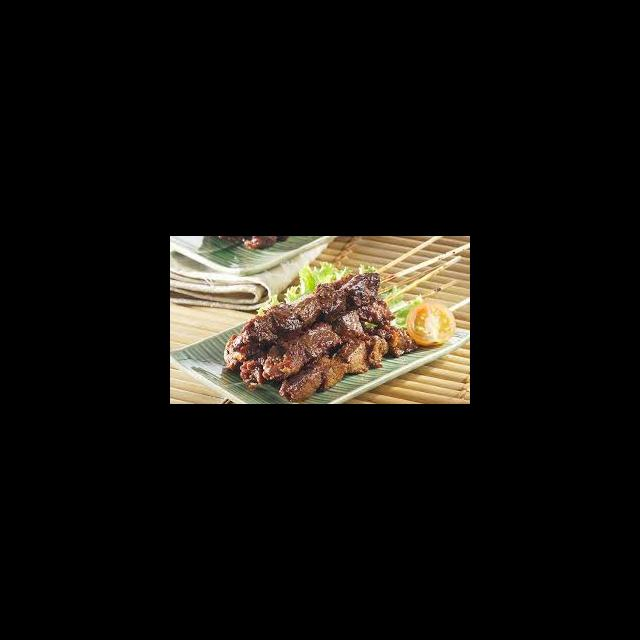food_waste: (261, 310, 367, 374)
